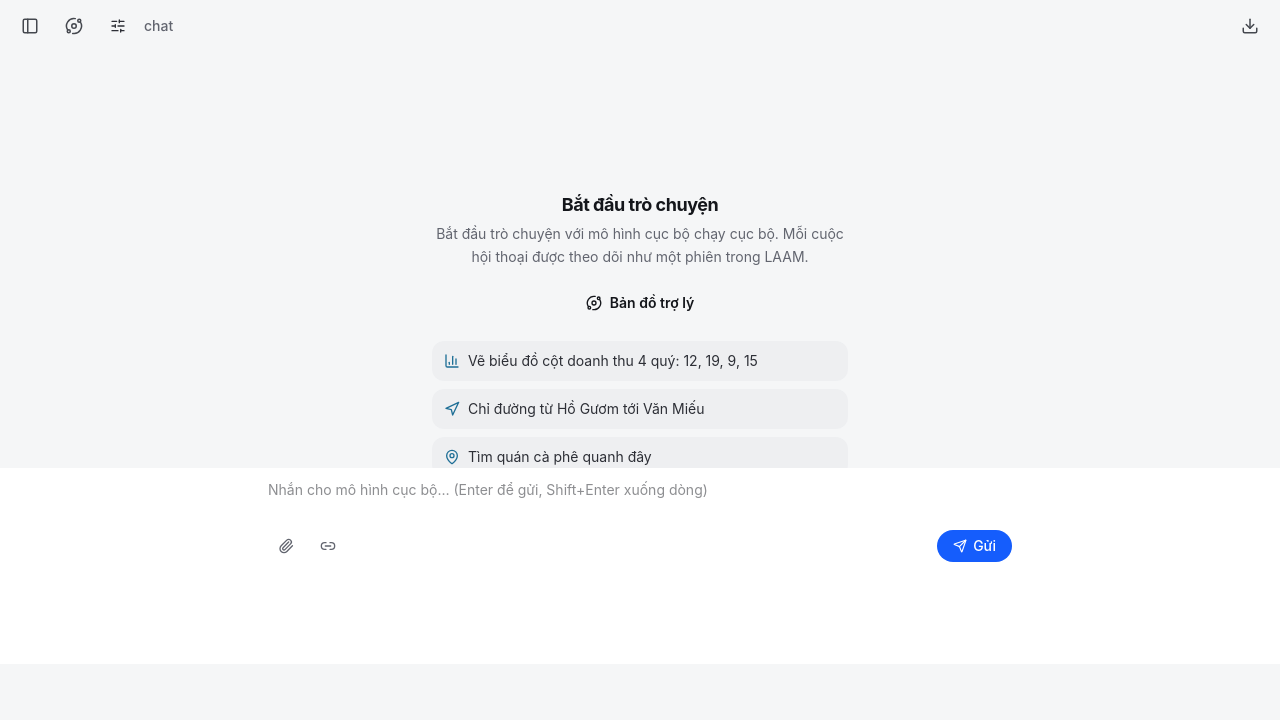
Test: pick tool từ slash menu, điền arg, gửi → body có requestedTool; sau gửi pick clear
// Chờ catalog nạp xong rồi mở slash menu.
Replace the text in the text box named "Soạn tin nhắn" with "/kg" at (640, 500), box [268, 480, 1012, 520]
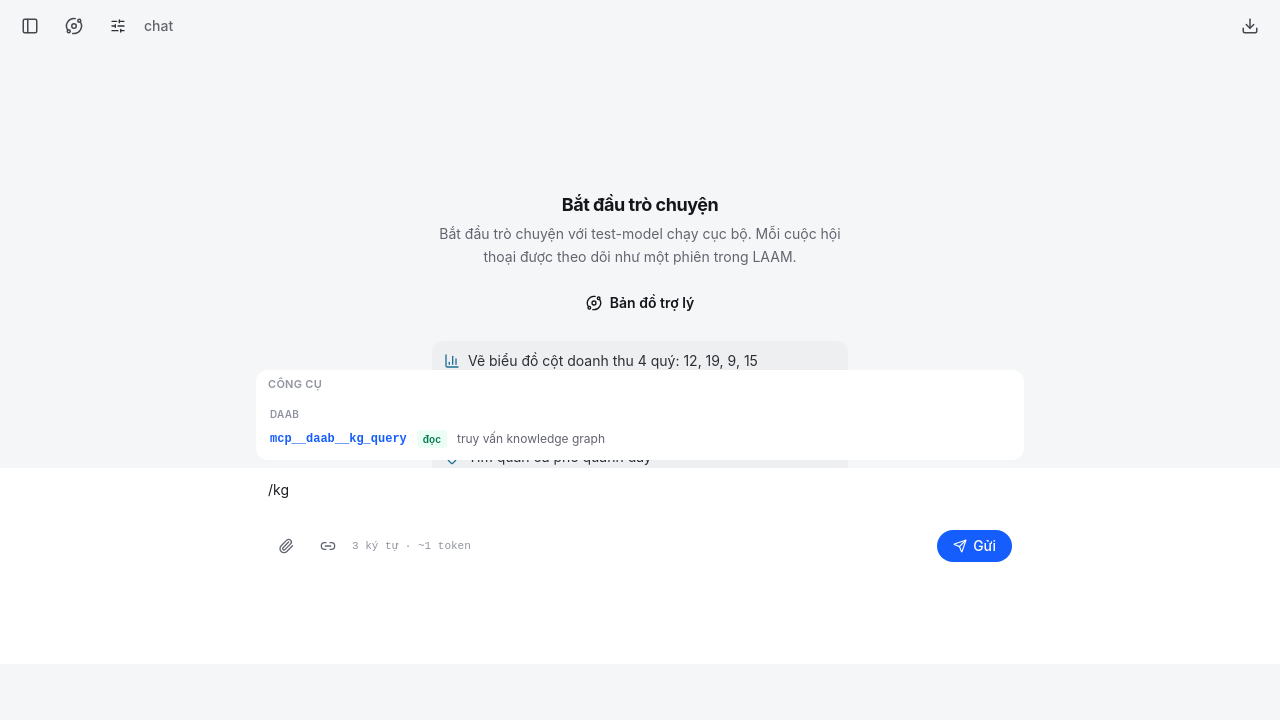
Click the text "mcp__daab__kg_query".
click(338, 439)  # box [270, 431, 407, 447]
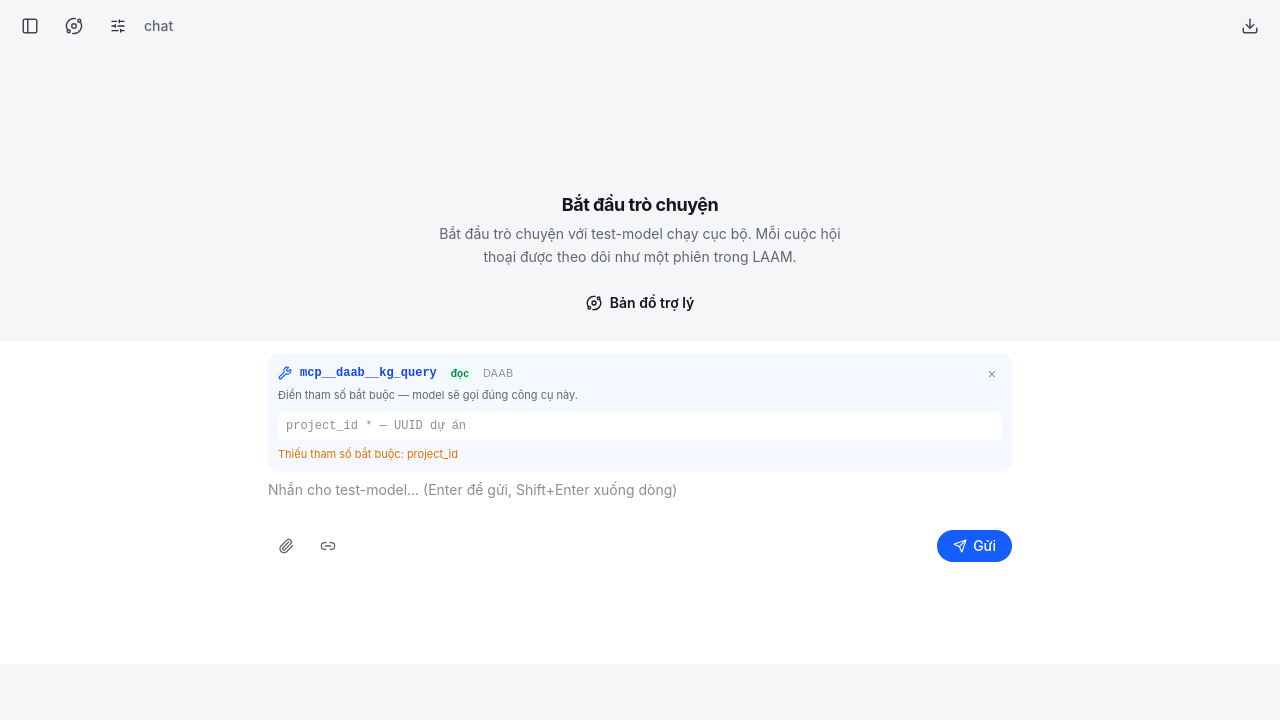
Type "1f991b74-aaaa" into the field labelled "project_id".
click(640, 426); type("1f991b74-aaaa")  # box [278, 412, 1002, 440]
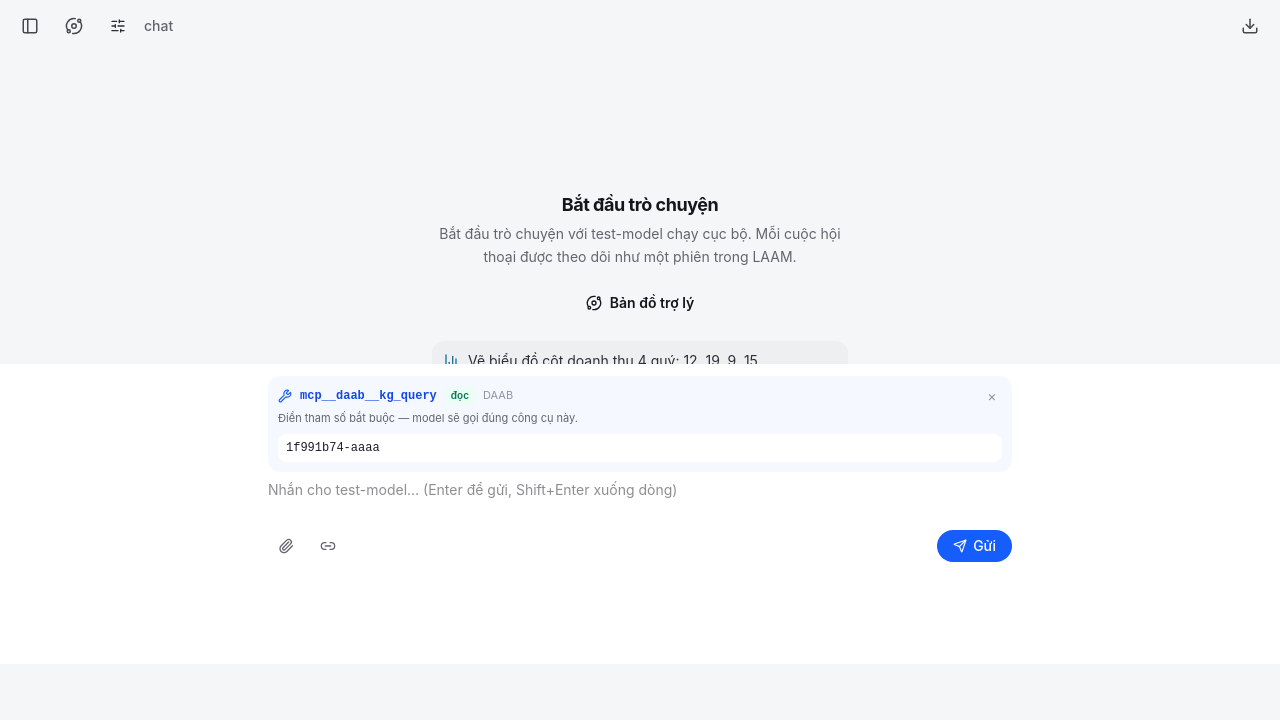
Type "tìm 'cá hồi' trong KG" into the text box named "Soạn tin nhắn".
click(640, 500); type("tìm 'cá hồi' trong KG")  # box [268, 480, 1012, 520]
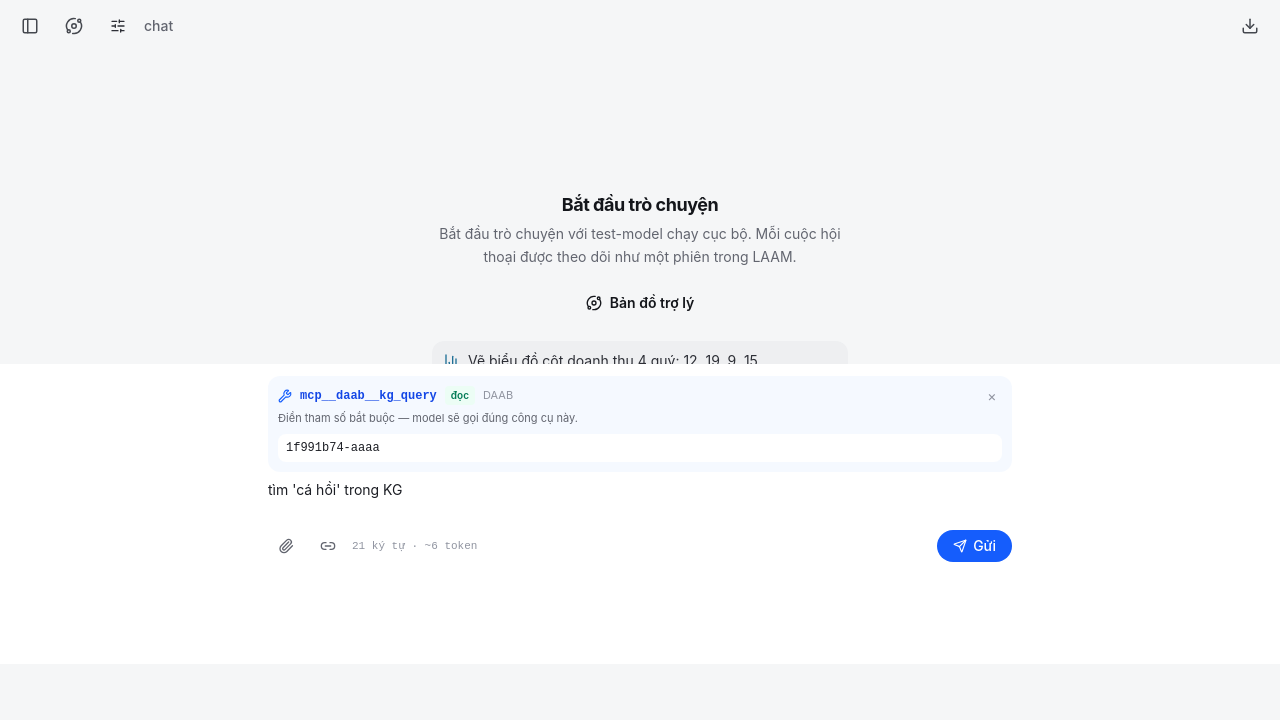
Click the button with aria-label "Gửi tin nhắn".
click(975, 546)  # box [937, 530, 1012, 562]
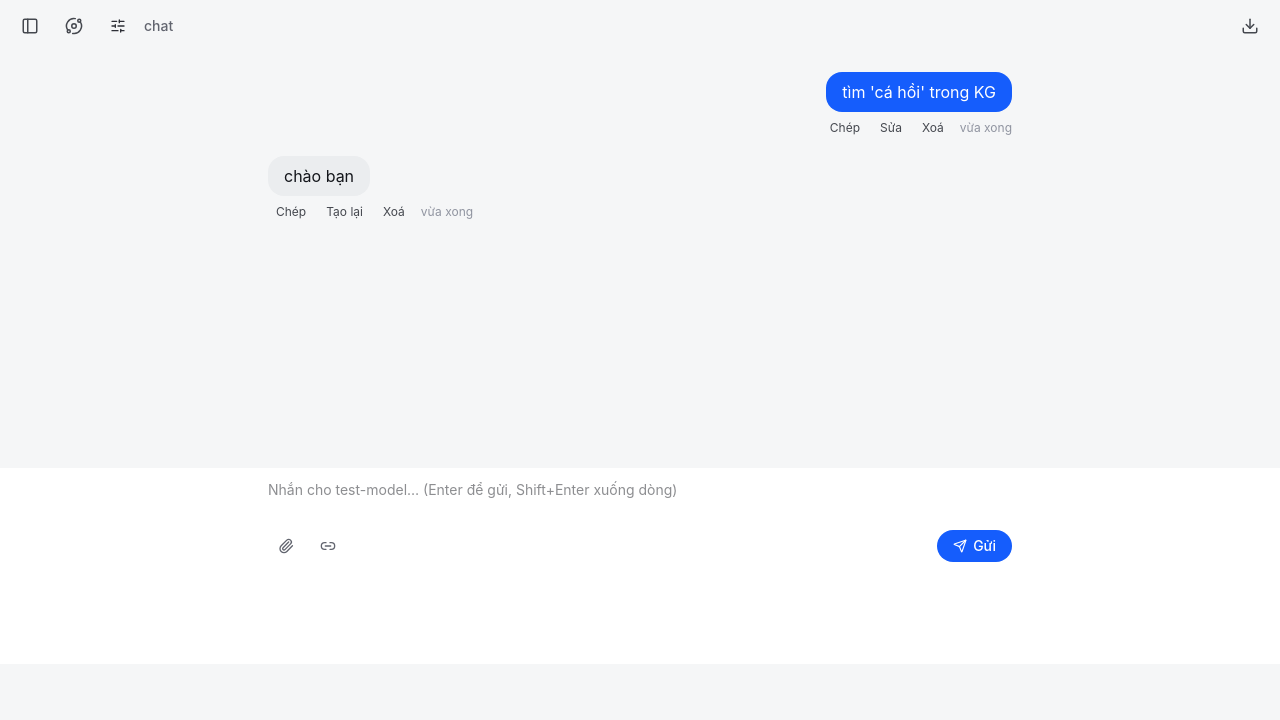
Check: the text "tìm 'cá hồi' trong KG" is shown, box [826, 72, 1012, 112]
